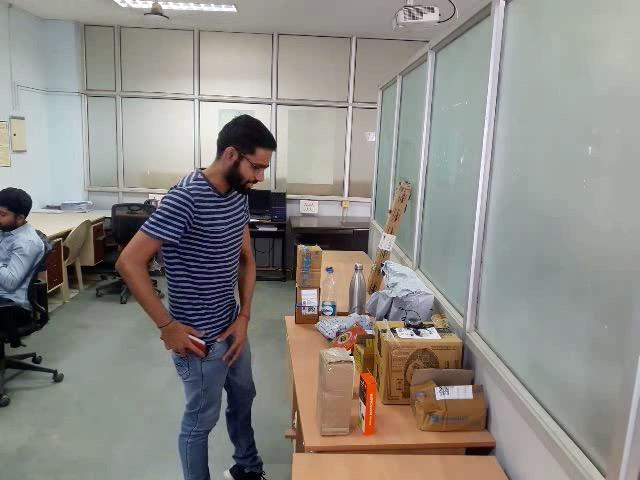shoplifting: (116, 312, 289, 401)
